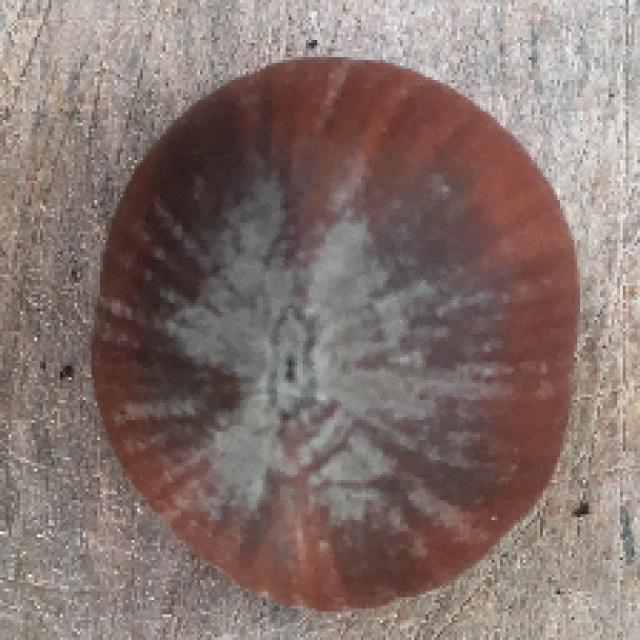qualityHazelnut: (90, 60, 583, 610)
